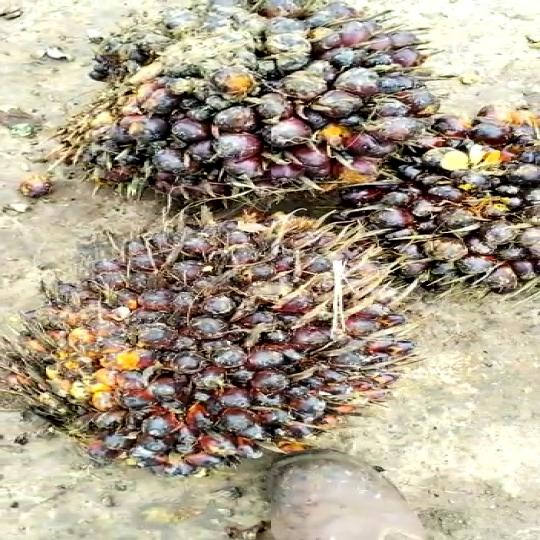kurang masak: (3, 212, 403, 493), (75, 0, 446, 232)
